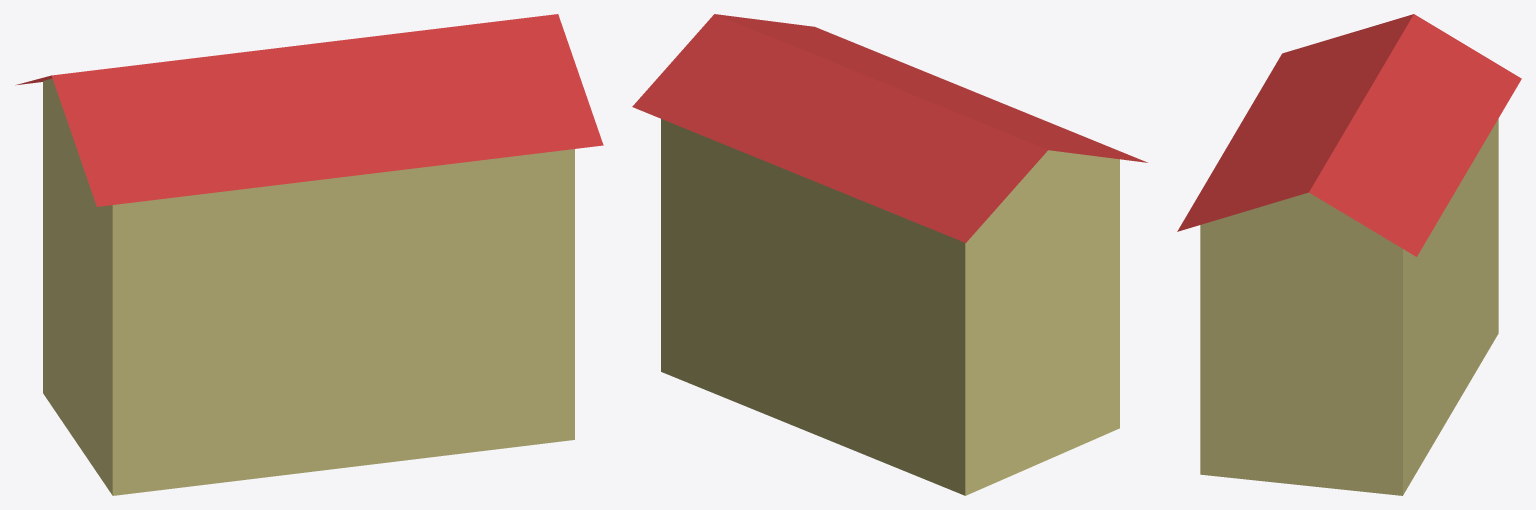
3 renders of one model, left to right at view 1: azimuth 30°, elevation 25°; view 2: azimuth 150°, elevation 25°; view 3: azimuth 270°, elevation 25°, orthographic. The views are drawn at different scales.
Size of the model in its own units: 25.22 by 18.05 by 17.43.
